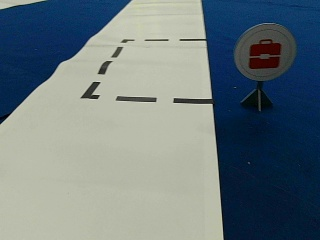company: (234, 24, 296, 79)
